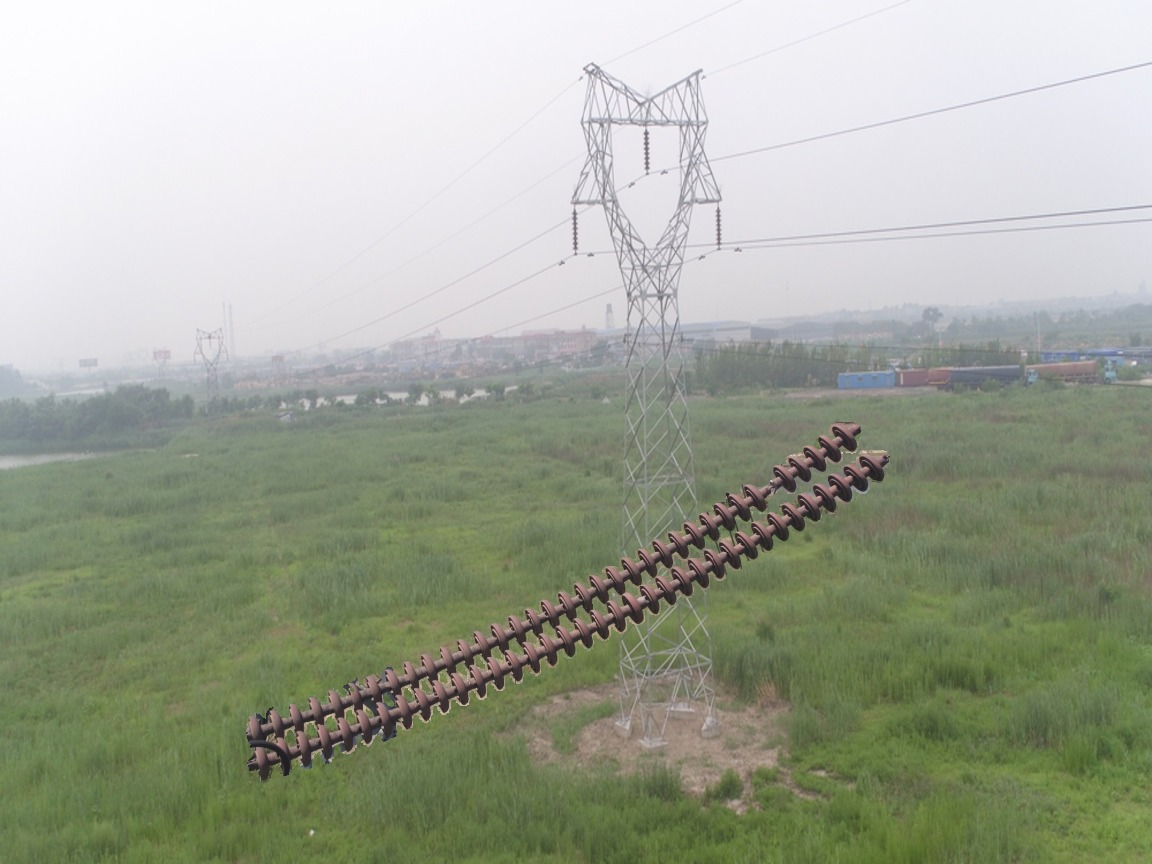defect: (740, 461, 805, 511)
